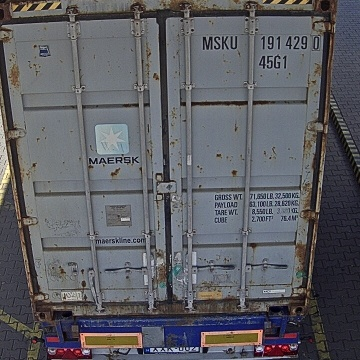serial_id: (203, 35, 321, 49)
